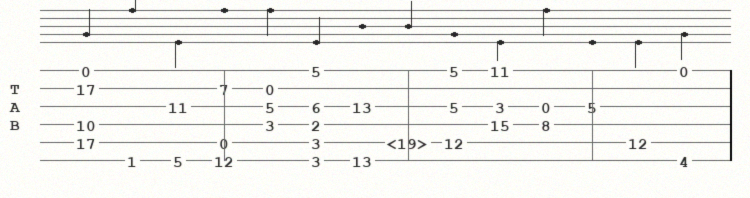0: (81, 63, 95, 77), (219, 135, 233, 149), (265, 81, 279, 95), (541, 99, 555, 113), (679, 63, 693, 77)
1: (127, 153, 141, 167)
10: (76, 117, 100, 131)
11: (168, 99, 192, 113), (490, 63, 514, 77)
12: (214, 153, 238, 167), (444, 135, 468, 149), (628, 135, 652, 149)
13: (352, 153, 376, 167), (352, 99, 376, 113)
15: (490, 117, 514, 131)
17: (76, 81, 100, 95), (76, 135, 100, 149)
2: (311, 117, 325, 131)
3: (265, 117, 279, 131), (311, 135, 325, 149), (311, 153, 325, 167), (495, 99, 509, 113)
4: (679, 153, 693, 167)
5: (173, 153, 187, 167), (265, 99, 279, 113), (311, 63, 325, 77), (449, 99, 463, 113), (449, 63, 463, 77), (587, 99, 601, 113)
6: (311, 99, 325, 113)
7: (219, 81, 233, 95)
8: (541, 117, 555, 131)
harmonic: (387, 135, 432, 149)
